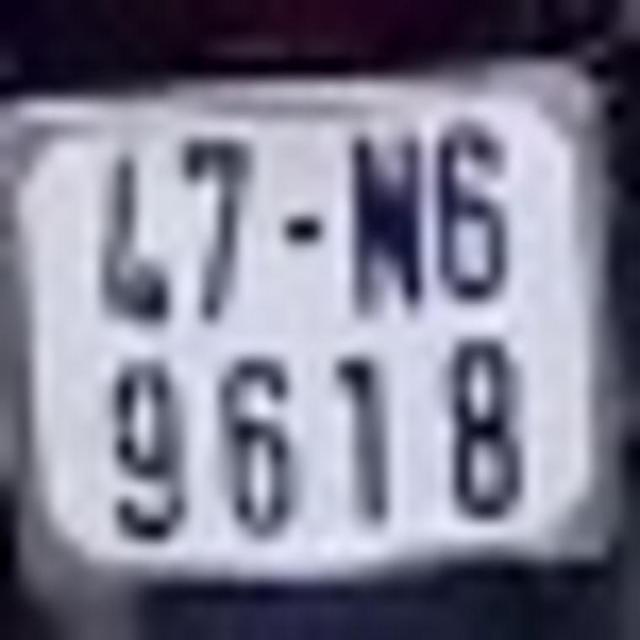1: (334, 343, 396, 528)
4: (94, 136, 182, 338)
6: (218, 348, 293, 542), (437, 114, 509, 314)
7: (181, 134, 261, 332)
8: (442, 337, 523, 512)
9: (108, 354, 192, 543)
N: (344, 122, 432, 320)
